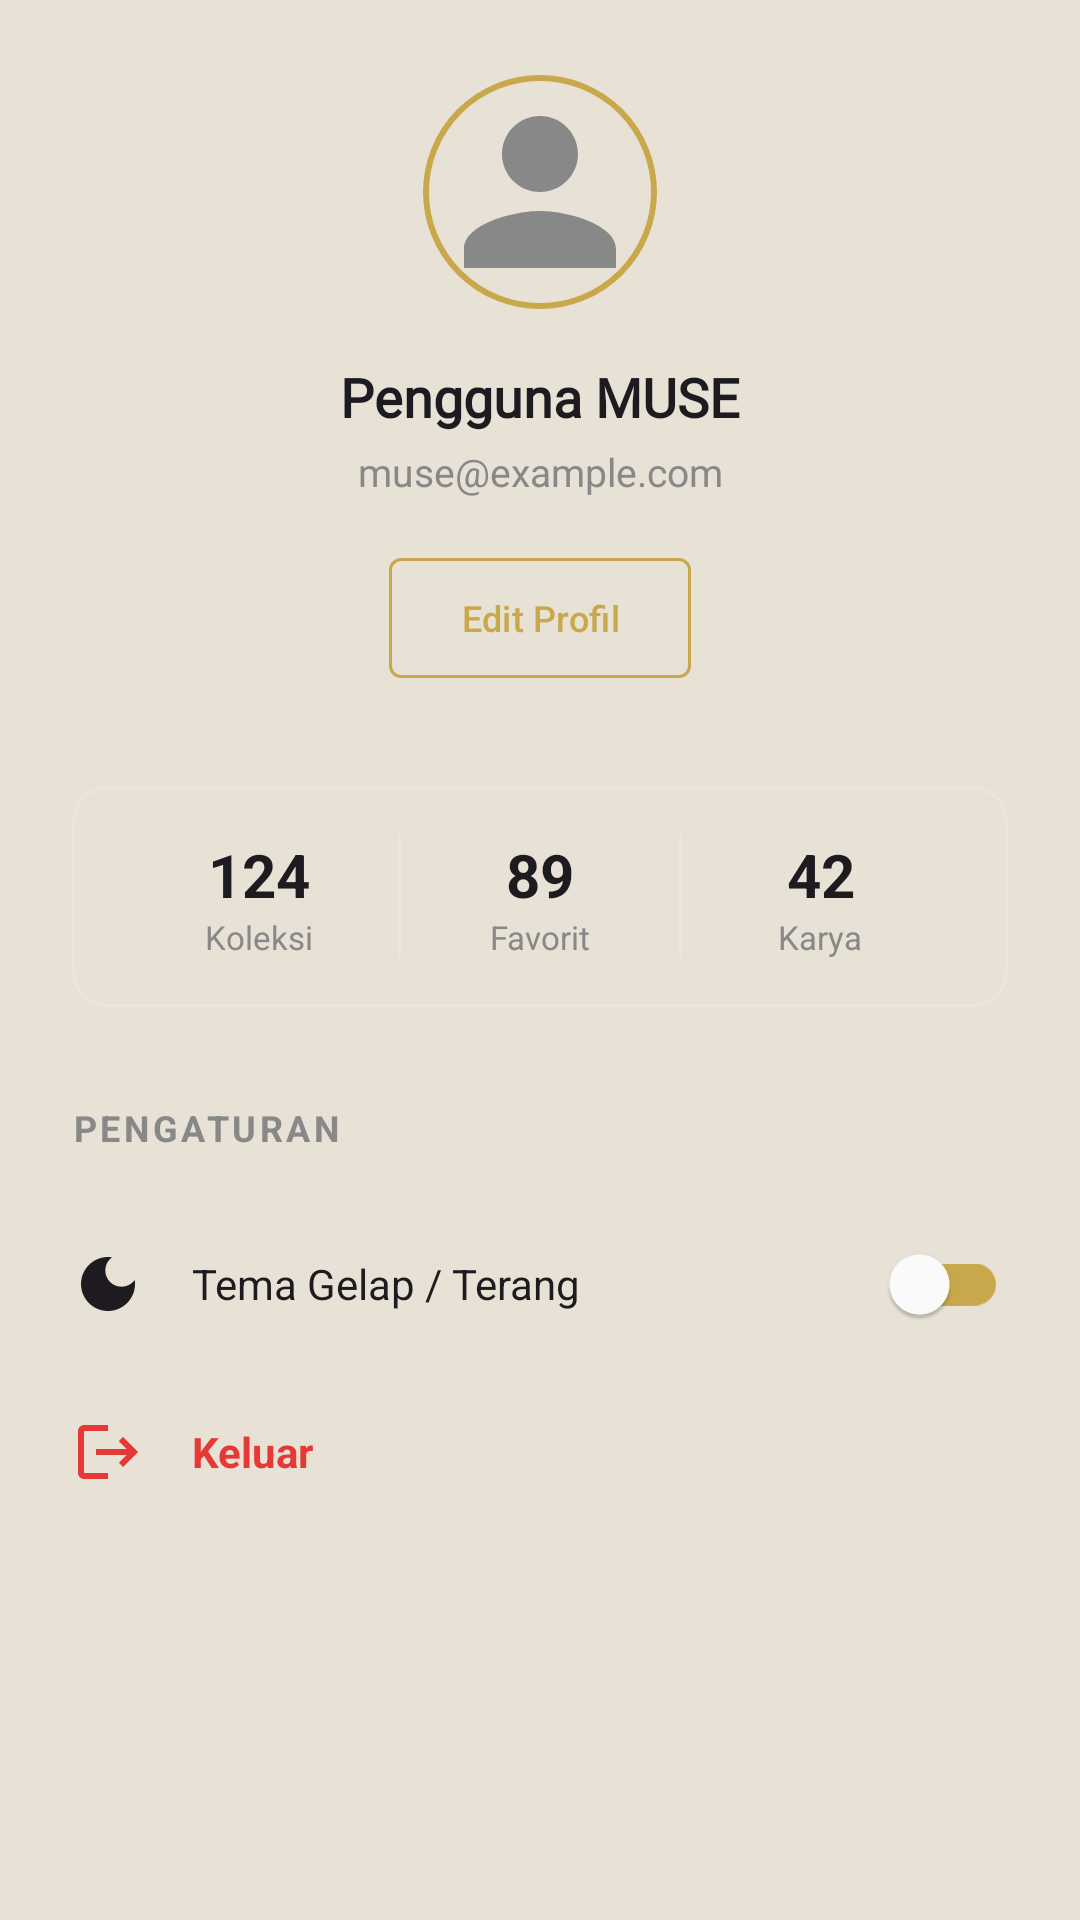

Where icons sit on this 1080w x 1920h app screen, as box=[x1, y1, x2, y2]:
theme: box=[81, 1257, 135, 1311]
